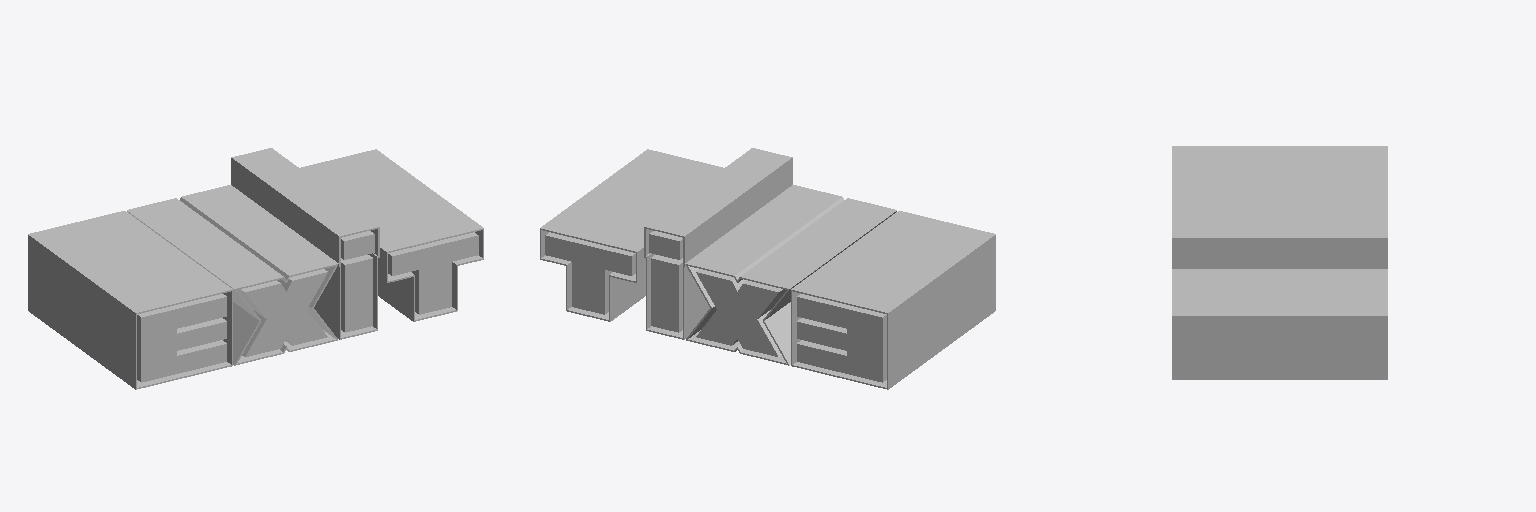
File: exit.obj
The picture shows the model from 3 angles: view 1: azimuth 30°, elevation 25°; view 2: azimuth 150°, elevation 25°; view 3: azimuth 270°, elevation 25°; orthographic projection.
Visible parts, largest first — view 1: Texto; view 2: Texto; view 3: Texto.
Boxes of the visible parts, <box> form: Texto: <box>28,148,483,389</box>; Texto: <box>540,148,995,389</box>; Texto: <box>1172,146,1387,379</box>.
Bounding box in the file's own units: 7.45 × 2.11 × 4.